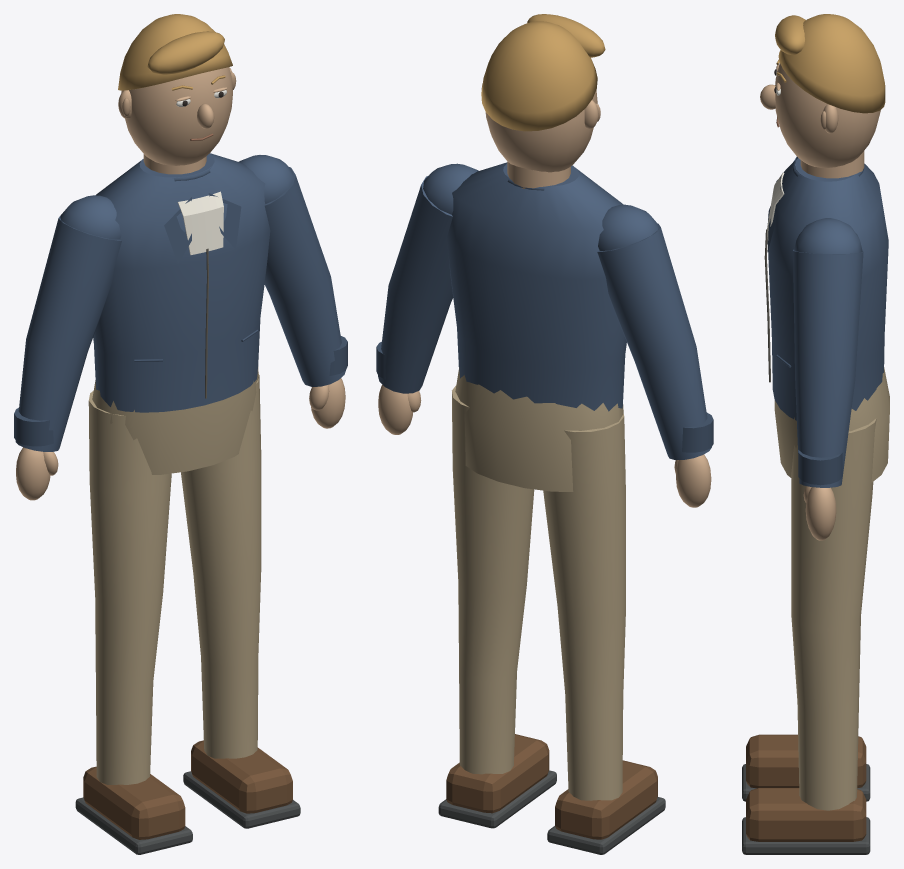
Rendered from person_swept_hair_jacket.glb.
3 views of the same model, side by side, from view 1: azimuth 30°, elevation 25°; view 2: azimuth 150°, elevation 25°; view 3: azimuth 270°, elevation 25° (orthographic).
Parts seen in each view (by area): view 1: Jacket_Adult_Torso_And_Main_Clothes, Jacket_Adult_Trouser_Leg, Jacket_Adult_Trouser_Leg.001, Jacket_Adult_Long_Sleeve, Jacket_Adult_Long_Sleeve.001, Jacket_Adult_Connected_Hip_Garment, Jacket_Adult_Head, Jacket_Adult_Shoe_Upper, Jacket_Adult_Shoe_Upper.001, Jacket_Adult_Hair_Cap, Jacket_Adult_Swept_Hair_Forelock, Jacket_Adult_Shirt_At_Open_Collar (+9 smaller); view 2: Jacket_Adult_Torso_And_Main_Clothes, Jacket_Adult_Trouser_Leg, Jacket_Adult_Trouser_Leg.001, Jacket_Adult_Long_Sleeve, Jacket_Adult_Connected_Hip_Garment, Jacket_Adult_Long_Sleeve.001, Jacket_Adult_Hair_Cap, Jacket_Adult_Shoe_Upper, Jacket_Adult_Shoe_Upper.001, Jacket_Adult_Head, Jacket_Adult_Rounded_Shoulder_Cloth, Jacket_Adult_Shoe_Sole (+7 smaller); view 3: Jacket_Adult_Trouser_Leg.001, Jacket_Adult_Torso_And_Main_Clothes, Jacket_Adult_Long_Sleeve.001, Jacket_Adult_Hair_Cap, Jacket_Adult_Head, Jacket_Adult_Shoe_Upper.001, Jacket_Adult_Shoe_Upper, Jacket_Adult_Connected_Hip_Garment, Jacket_Adult_Shoe_Sole.001, Jacket_Adult_Rounded_Shoulder_Cloth.001, Jacket_Adult_Mitten_Hand.001, Jacket_Adult_Sleeve_Cuff.001 (+7 smaller).
Boxes of the visible parts, bbox=[...] form: Jacket_Adult_Torso_And_Main_Clothes: bbox=[93, 153, 270, 412]; Jacket_Adult_Trouser_Leg: bbox=[88, 391, 171, 784]; Jacket_Adult_Trouser_Leg.001: bbox=[181, 374, 261, 758]; Jacket_Adult_Long_Sleeve: bbox=[15, 215, 121, 451]; Jacket_Adult_Long_Sleeve.001: bbox=[264, 167, 345, 386]; Jacket_Adult_Connected_Hip_Garment: bbox=[92, 367, 259, 474]; Jacket_Adult_Head: bbox=[121, 67, 232, 165]; Jacket_Adult_Shoe_Upper: bbox=[83, 766, 185, 839]; Jacket_Adult_Shoe_Upper.001: bbox=[191, 740, 292, 813]; Jacket_Adult_Hair_Cap: bbox=[118, 14, 232, 90]; Jacket_Adult_Swept_Hair_Forelock: bbox=[147, 31, 224, 74]; Jacket_Adult_Shirt_At_Open_Collar: bbox=[177, 191, 223, 254]; Jacket_Adult_Torso_And_Main_Clothes: bbox=[447, 162, 626, 411]; Jacket_Adult_Trouser_Leg: bbox=[543, 414, 625, 800]; Jacket_Adult_Trouser_Leg.001: bbox=[452, 385, 534, 774]; Jacket_Adult_Long_Sleeve: bbox=[597, 223, 711, 460]; Jacket_Adult_Connected_Hip_Garment: bbox=[455, 367, 623, 491]; Jacket_Adult_Long_Sleeve.001: bbox=[378, 175, 453, 393]; Jacket_Adult_Hair_Cap: bbox=[481, 21, 597, 131]; Jacket_Adult_Shoe_Upper: bbox=[555, 760, 657, 839]; Jacket_Adult_Shoe_Upper.001: bbox=[446, 734, 549, 813]; Jacket_Adult_Head: bbox=[485, 89, 597, 172]; Jacket_Adult_Rounded_Shoulder_Cloth: bbox=[598, 204, 658, 250]; Jacket_Adult_Shoe_Sole: bbox=[547, 797, 665, 854]; Jacket_Adult_Trouser_Leg.001: bbox=[791, 418, 876, 810]; Jacket_Adult_Torso_And_Main_Clothes: bbox=[767, 158, 888, 420]; Jacket_Adult_Long_Sleeve.001: bbox=[793, 249, 863, 487]; Jacket_Adult_Hair_Cap: bbox=[778, 14, 885, 113]; Jacket_Adult_Head: bbox=[775, 63, 880, 167]; Jacket_Adult_Shoe_Upper.001: bbox=[746, 788, 866, 841]; Jacket_Adult_Shoe_Upper: bbox=[746, 734, 866, 788]; Jacket_Adult_Connected_Hip_Garment: bbox=[774, 367, 889, 482]; Jacket_Adult_Shoe_Sole.001: bbox=[742, 817, 870, 854]; Jacket_Adult_Rounded_Shoulder_Cloth.001: bbox=[794, 218, 862, 253]; Jacket_Adult_Mitten_Hand.001: bbox=[805, 487, 836, 540]; Jacket_Adult_Sleeve_Cuff.001: bbox=[798, 450, 842, 485].
Size of the model in its own units: 0.7829 by 1.8 by 0.3022.
